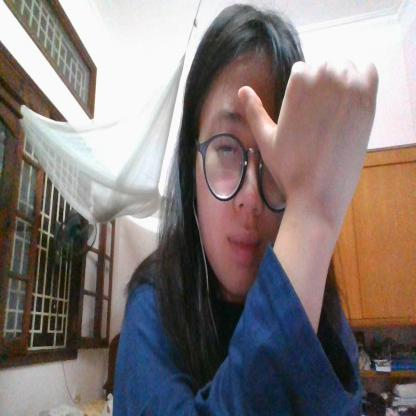right: (238, 50, 379, 226)
